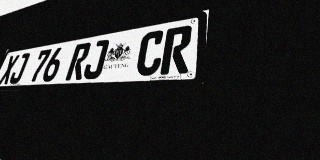6: (41, 46, 66, 82)
7: (28, 49, 52, 83)
C: (134, 29, 166, 76)
J: (82, 39, 110, 80), (8, 53, 31, 84)
R: (160, 25, 193, 75), (65, 42, 92, 81)
X: (0, 54, 20, 85)
